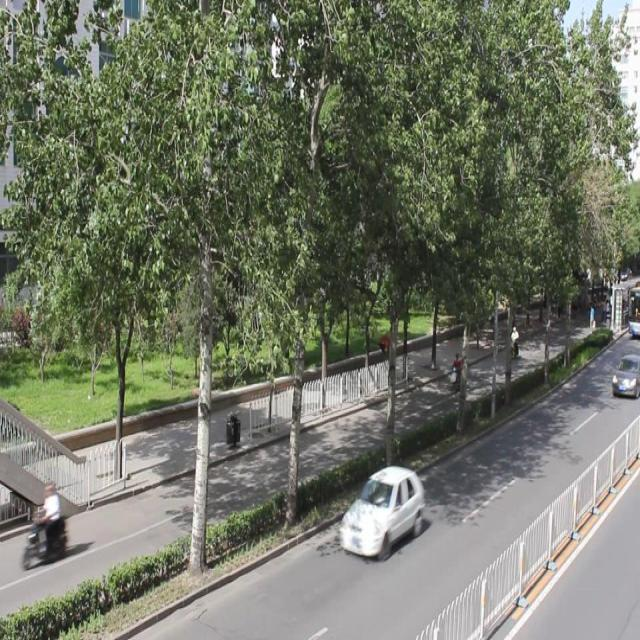car: (338, 465, 422, 557)
